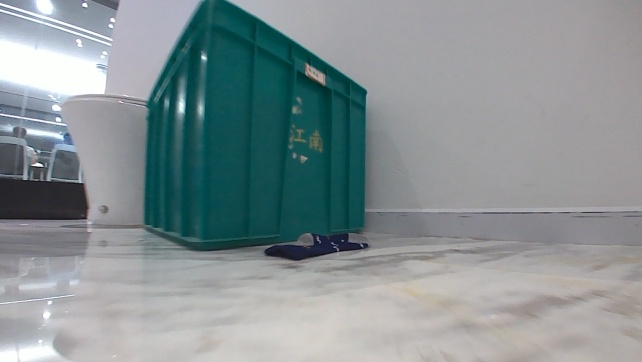socks: (264, 230, 372, 261)
toilet: (54, 90, 149, 227)
